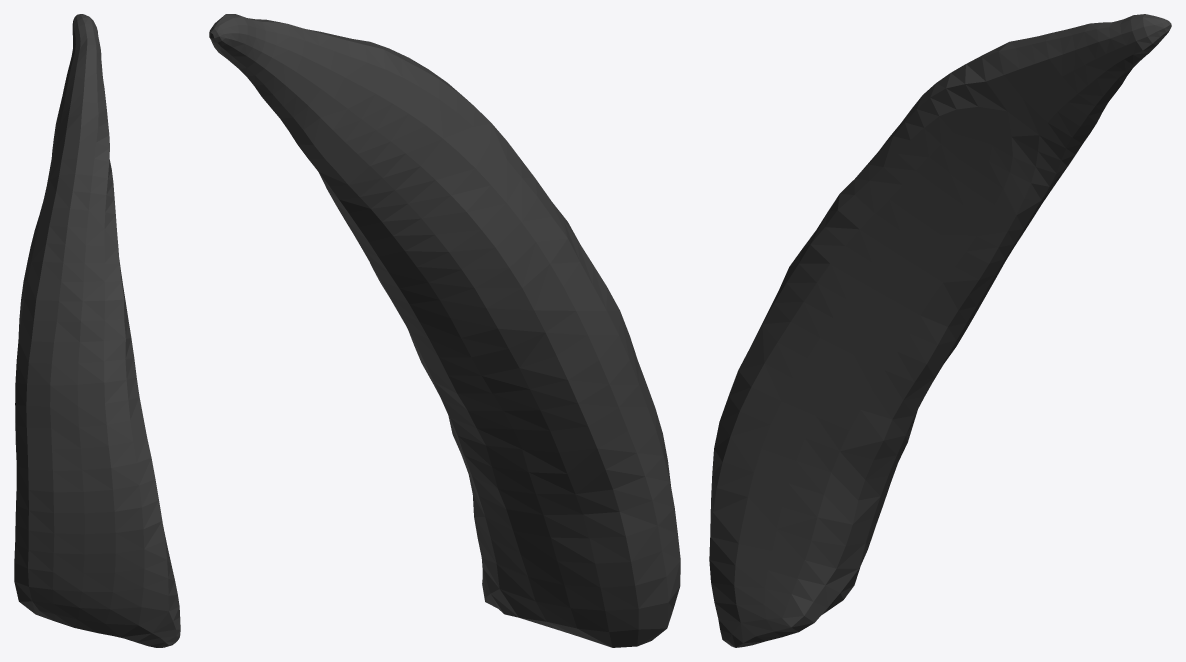
The model's file is R_max_I2.glb.
3 views of the same model, side by side, from view 1: azimuth 30°, elevation 25°; view 2: azimuth 150°, elevation 25°; view 3: azimuth 270°, elevation 25° (orthographic). The views are drawn at different scales.
Visible parts, largest first — view 1: R_max_I2; view 2: R_max_I2; view 3: R_max_I2.
Part boxes in pixels (<box>): R_max_I2: <box>14,14,180,647</box>; R_max_I2: <box>209,14,680,647</box>; R_max_I2: <box>709,14,1171,647</box>.
Bounding box in the file's own units: 0.3854 × 0.9451 × 0.5864.
1 material, 1 textured.
